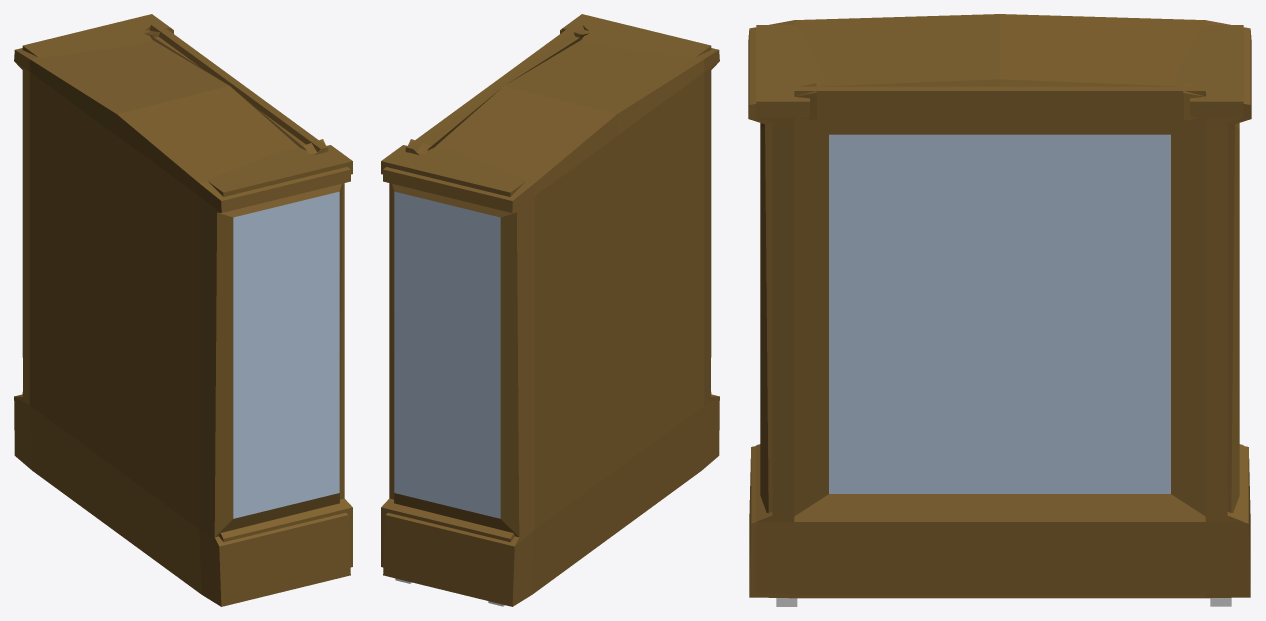
Rendered from Analytical Balance.fbx.
3 views of the same model, side by side, from view 1: azimuth 30°, elevation 25°; view 2: azimuth 150°, elevation 25°; view 3: azimuth 270°, elevation 25° (orthographic). The views are drawn at different scales.
Visible parts, largest first — view 1: Cube.005; view 2: Cube.005; view 3: Cube.005, Cube.011.
Part boxes in pixels (x1,y1,x2,y2): Cube.005: (14,14,352,606); Cube.005: (381,14,719,606); Cube.005: (748,14,1251,598); Cube.011: (829,134,1170,493).
Bounding box in the file's own units: 16.28 × 48.3 × 42.41.
